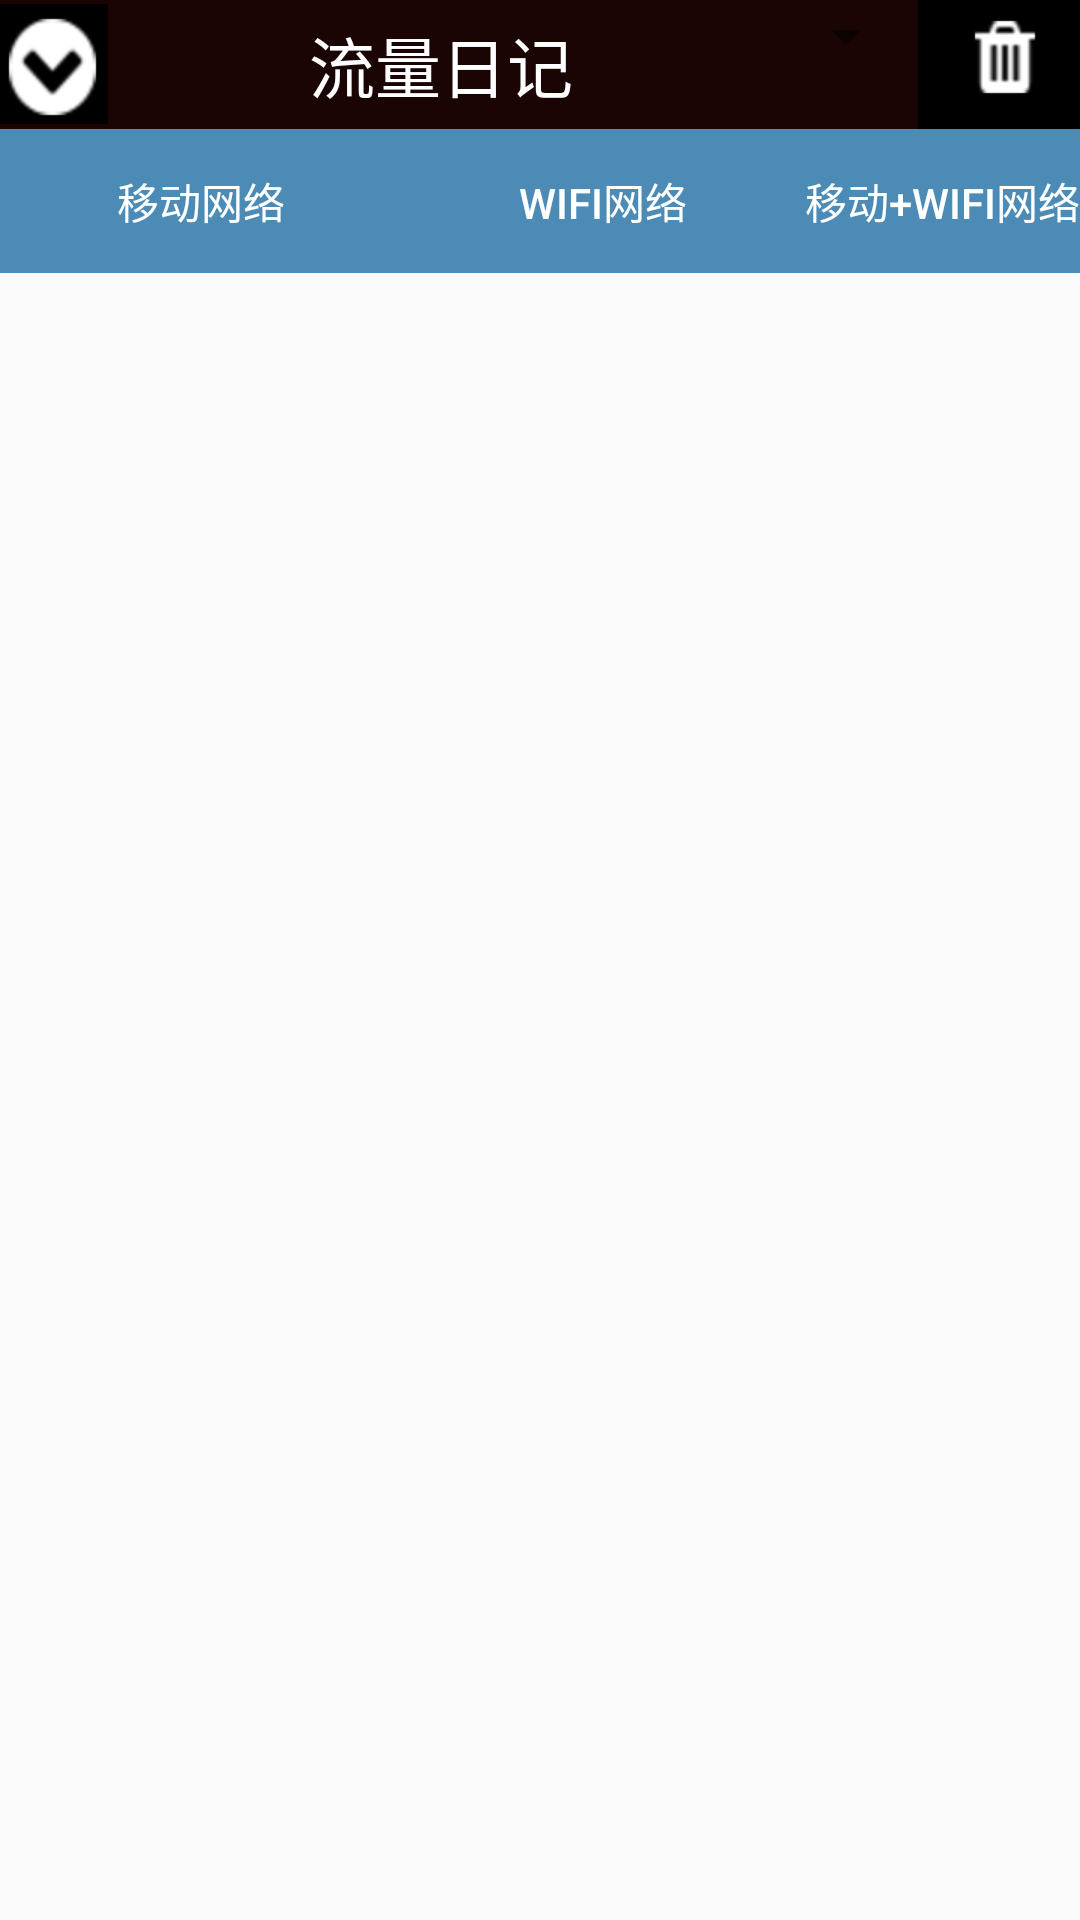

Named icons in this screenshot (1080px×1920px) and their centers, [x,y]:
delete: [999,64]
